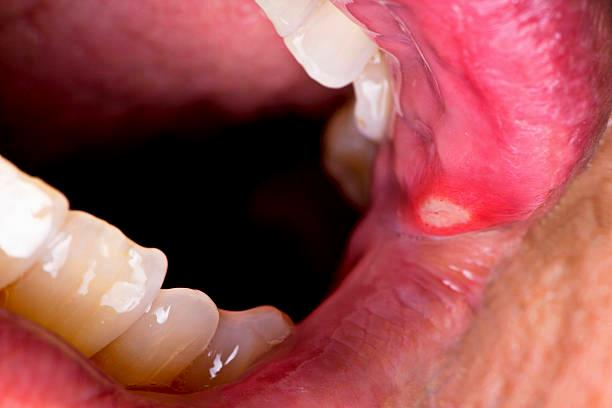Ulcer: (403, 160, 510, 246)
